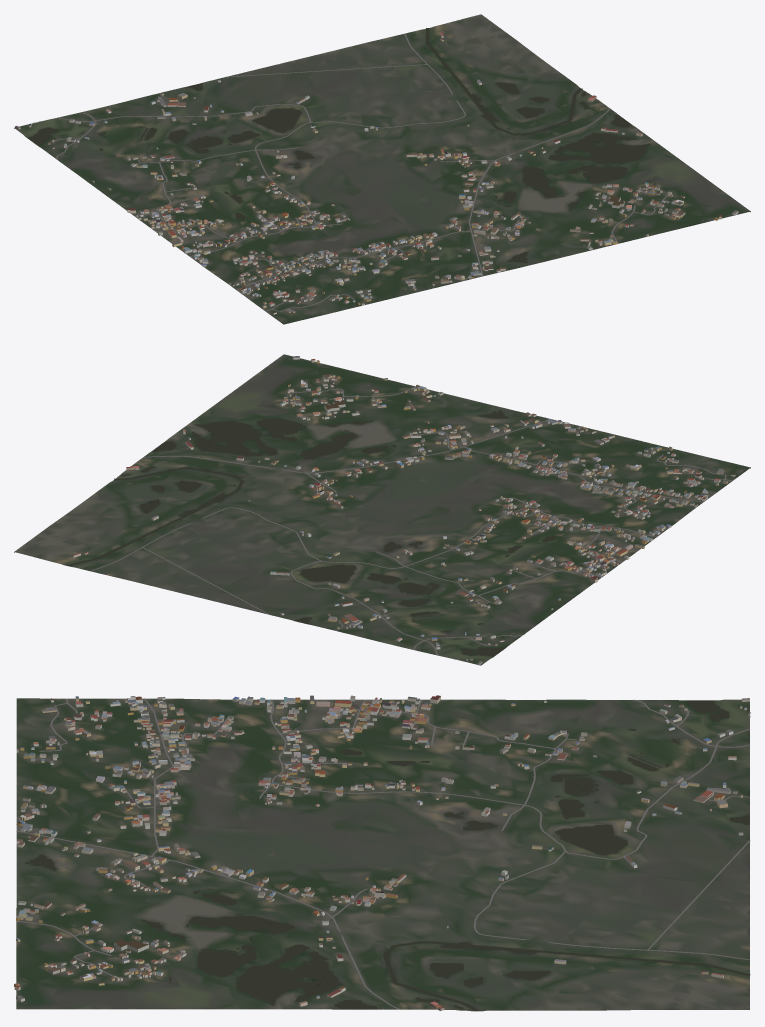
3 views of the same model, one above another, from view 1: azimuth 30°, elevation 25°; view 2: azimuth 150°, elevation 25°; view 3: azimuth 270°, elevation 25° (orthographic). The views are drawn at different scales.
Visible parts, largest first — view 1: ground, buildings, water, roads; view 2: ground, buildings, water, roads; view 3: ground, buildings, water, roads.
Part boxes in pixels (x1,y1,x2,y2): ground: (14, 14, 750, 324); buildings: (15, 32, 738, 314); water: (27, 28, 654, 262); roads: (33, 33, 667, 311); ground: (14, 354, 750, 665); buildings: (72, 356, 735, 665); water: (67, 405, 555, 656); roads: (90, 386, 732, 660); ground: (16, 698, 749, 1011); buildings: (14, 695, 749, 1010); water: (25, 700, 750, 1011); roads: (16, 698, 750, 1009).
Size of the model in its own units: 1412 by 18.58 by 1409.
